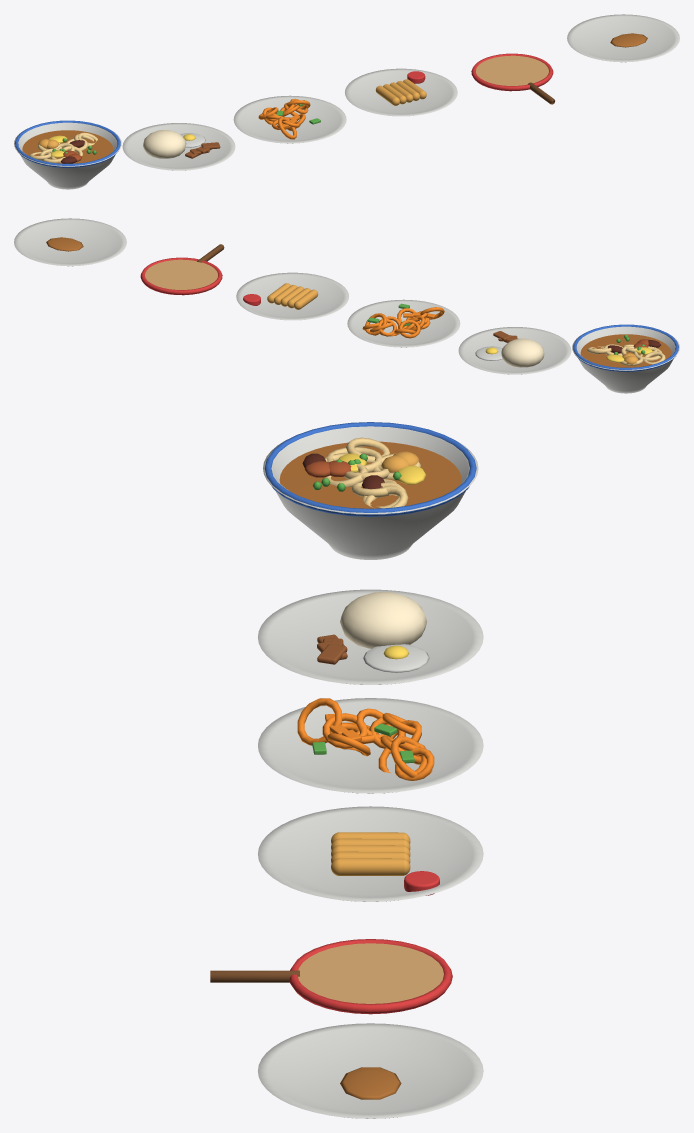
Rendered from food.glb.
The picture shows the model from 3 angles, top to bottom: view 1: azimuth 30°, elevation 25°; view 2: azimuth 150°, elevation 25°; view 3: azimuth 270°, elevation 25°; orthographic projection. The views are drawn at different scales.
Parts seen in each view (by area): view 1: LomiBowl, ShanghaiPlate, DirtyPlate, TapsilogPlate, ChamiPlate, Pamaypay; view 2: LomiBowl, ShanghaiPlate, DirtyPlate, TapsilogPlate, ChamiPlate, Pamaypay; view 3: LomiBowl, ChamiPlate, ShanghaiPlate, DirtyPlate, TapsilogPlate, Pamaypay.
Part boxes in pixels (box(x1,y1,x2,y2)): LomiBowl: box(14, 120, 121, 189); ShanghaiPlate: box(345, 68, 457, 116); DirtyPlate: box(567, 14, 679, 62); TapsilogPlate: box(122, 123, 235, 170); ChamiPlate: box(233, 95, 346, 143); Pamaypay: box(471, 53, 554, 104); LomiBowl: box(572, 324, 679, 393); ShanghaiPlate: box(236, 272, 348, 320); DirtyPlate: box(14, 218, 126, 266); TapsilogPlate: box(458, 327, 571, 374); ChamiPlate: box(347, 299, 460, 347); Pamaypay: box(140, 244, 224, 295); LomiBowl: box(263, 422, 478, 559); ChamiPlate: box(258, 698, 483, 793); ShanghaiPlate: box(258, 806, 483, 901); DirtyPlate: box(258, 1023, 483, 1118); TapsilogPlate: box(258, 589, 483, 684); Pamaypay: box(210, 939, 452, 1014).
Size of the model in its own units: 5.86 by 0.3539 by 1.06.
